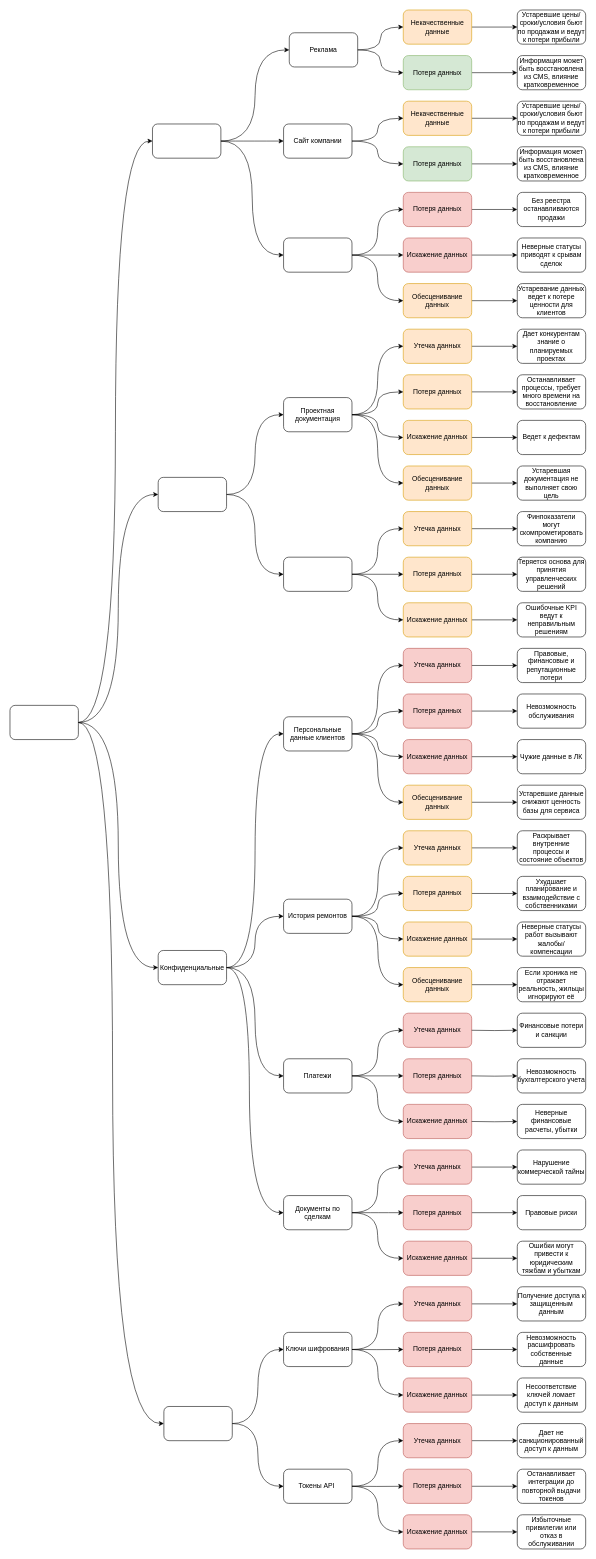
Some shapes in this 596 by 1559 pixel diagram are drawn without their labels. The shapes that lost their labels are listed below. From the top down, each one's centre as x and y in pixels, then its label:
At (x=186, y=140): "Публичные".
At (x=317, y=254): "Реестр объектов недвижимости".
At (x=192, y=494): "Внутренние".
At (x=317, y=574): "Внутренние отчеты".
At (x=43, y=722): "Безопасность данных".
At (x=197, y=1423): "Секретные".
